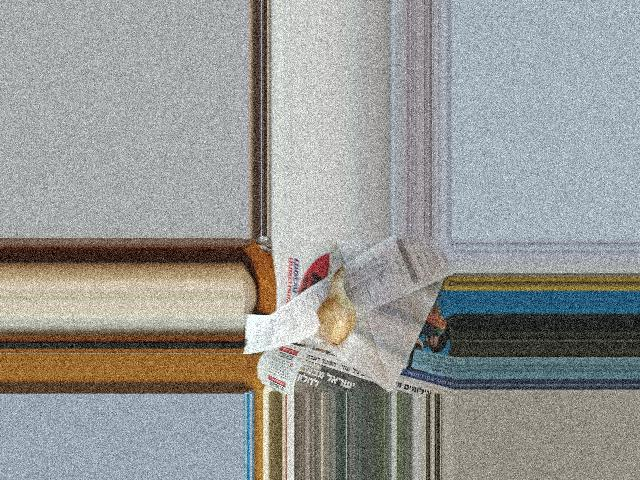onion: (317, 274, 356, 346)
